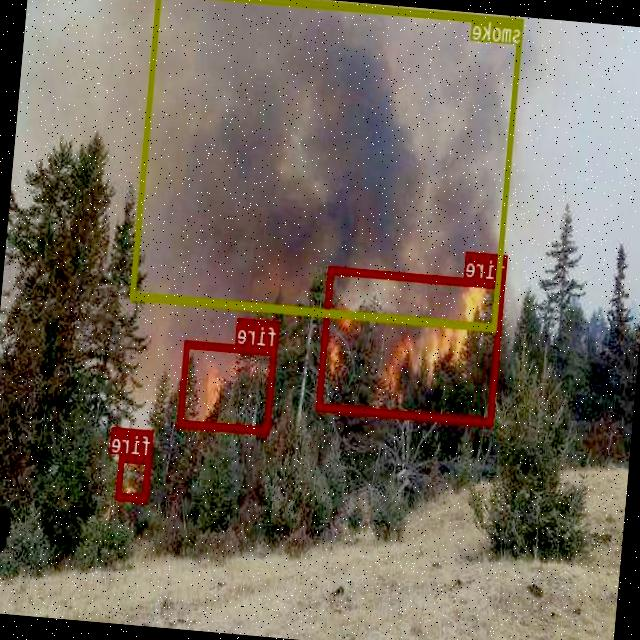fire: (316, 266, 506, 424), (178, 338, 278, 434), (116, 454, 152, 502)
smoke: (131, 0, 524, 329)
